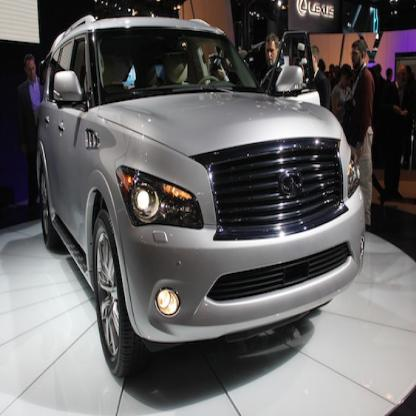Vehicle: (35, 14, 368, 383)
